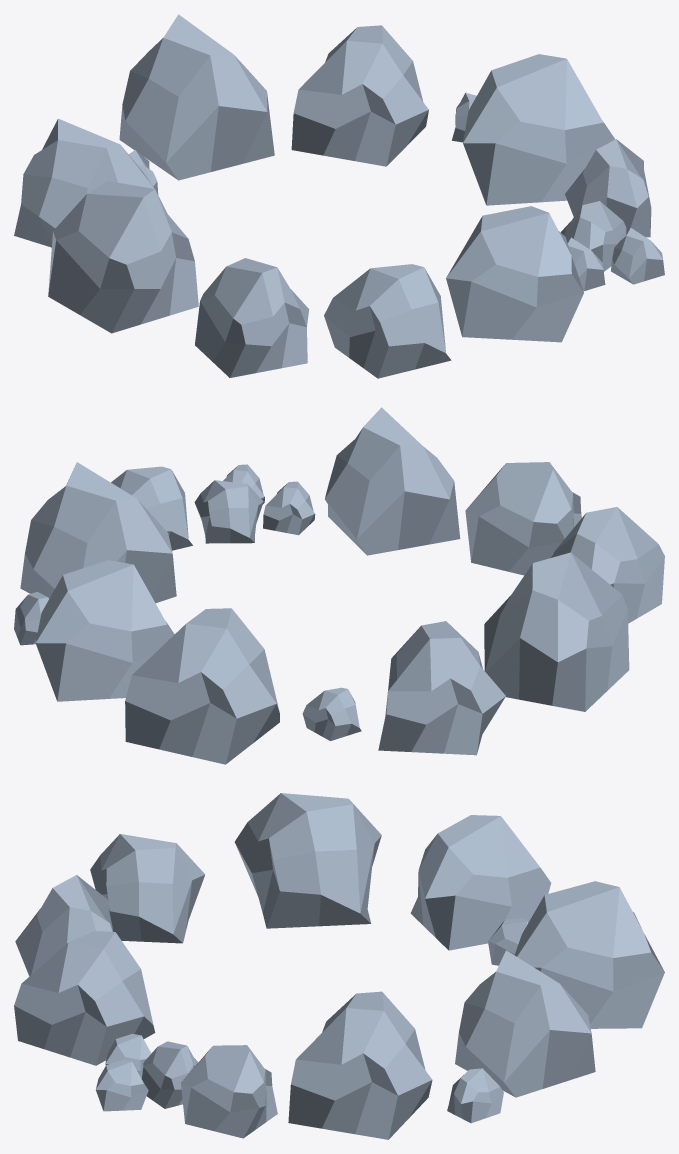
The model's file is rock_prefab.fbx.
3 views of the same model, one above another, from view 1: azimuth 30°, elevation 25°; view 2: azimuth 150°, elevation 25°; view 3: azimuth 270°, elevation 25° (orthographic). The views are drawn at different scales.
Parts seen in each view (by area): view 1: rock.006, rock.004, rock.005, rock.009, rock, rock.008, rock.007, rock.002, rock.013, rock.012, rock.011, rock.010 (+1 smaller); view 2: rock.004, rock.006, rock, rock.009, rock.005, rock.002, rock.008, rock.007, rock.012, rock.013, rock.003, rock.010 (+2 smaller); view 3: rock.004, rock.005, rock.006, rock, rock.009, rock.002, rock.007, rock.013, rock.008, rock.012, rock.001, rock.011 (+2 smaller).
Part boxes in pixels (<box>): rock.006: <box>119,14,274,180</box>; rock.004: <box>48,181,198,333</box>; rock.005: <box>463,54,615,205</box>; rock.009: <box>446,206,583,342</box>; rock: <box>291,25,428,166</box>; rock.008: <box>324,264,451,378</box>; rock.007: <box>195,258,309,377</box>; rock.002: <box>14,118,154,247</box>; rock.013: <box>565,139,651,237</box>; rock.012: <box>561,201,626,271</box>; rock.011: <box>611,228,664,284</box>; rock.010: <box>568,237,605,291</box>; rock.004: <box>484,552,629,711</box>; rock.006: <box>125,608,279,764</box>; rock: <box>35,560,174,701</box>; rock.009: <box>325,407,460,555</box>; rock.005: <box>20,462,176,603</box>; rock.002: <box>378,621,505,755</box>; rock.008: <box>465,462,581,575</box>; rock.007: <box>550,507,664,623</box>; rock.012: <box>194,480,263,543</box>; rock.013: <box>111,466,192,550</box>; rock.003: <box>302,687,361,740</box>; rock.010: <box>263,481,315,535</box>; rock.004: <box>234,793,381,928</box>; rock.005: <box>288,991,432,1139</box>; rock.006: <box>514,881,664,1028</box>; rock: <box>455,950,595,1097</box>; rock.009: <box>14,931,155,1065</box>; rock.002: <box>410,815,551,950</box>; rock.007: <box>90,834,205,943</box>; rock.013: <box>181,1045,277,1138</box>; rock.008: <box>15,875,113,976</box>; rock.012: <box>141,1041,198,1108</box>; rock.001: <box>447,1068,503,1123</box>; rock.011: <box>96,1060,148,1111</box>.
Bounding box in the file's own units: 14.33 × 3.08 × 15.15.
